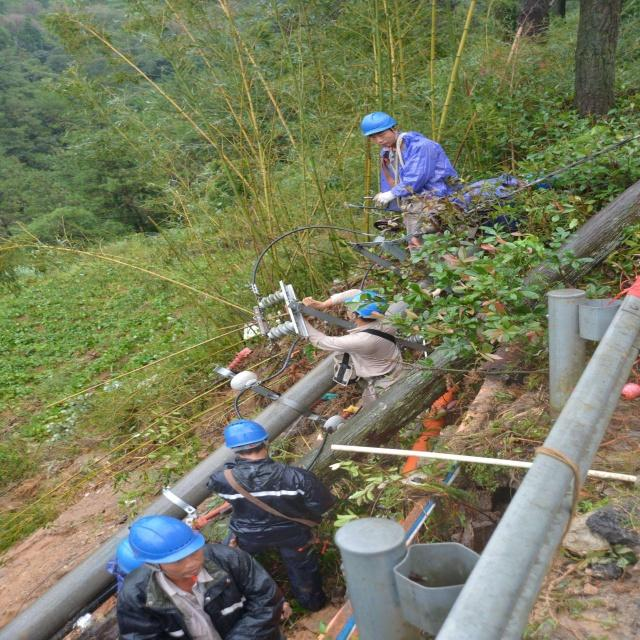helmet: (219, 557, 273, 616), (341, 388, 392, 433), (359, 148, 397, 196)
